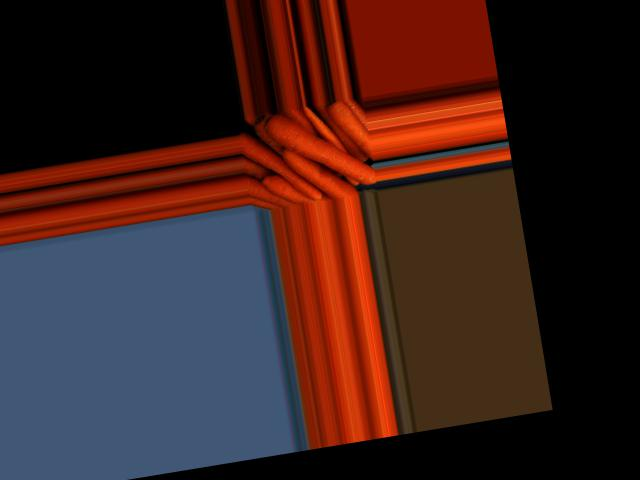carrot: (239, 130, 319, 209)
